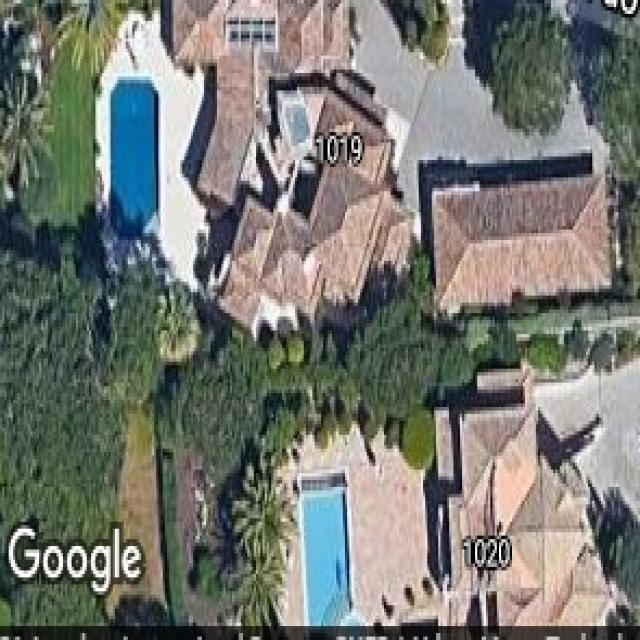pool: (292, 462, 367, 640), (104, 70, 169, 247)
